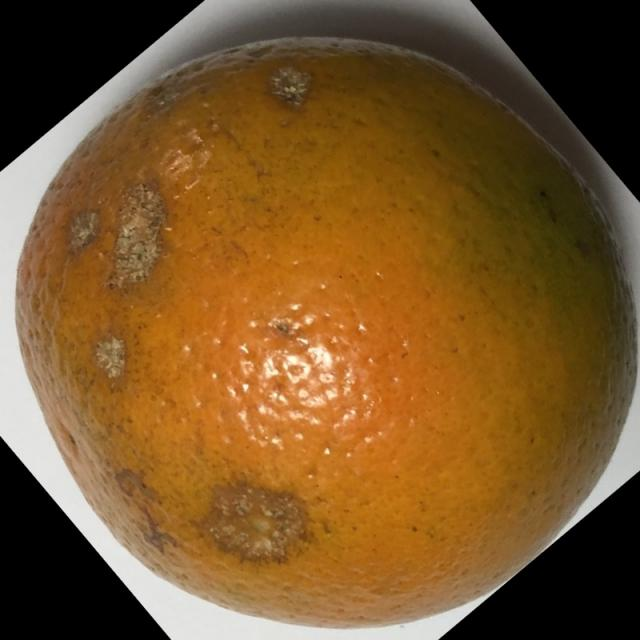canker: (8, 30, 638, 639)
